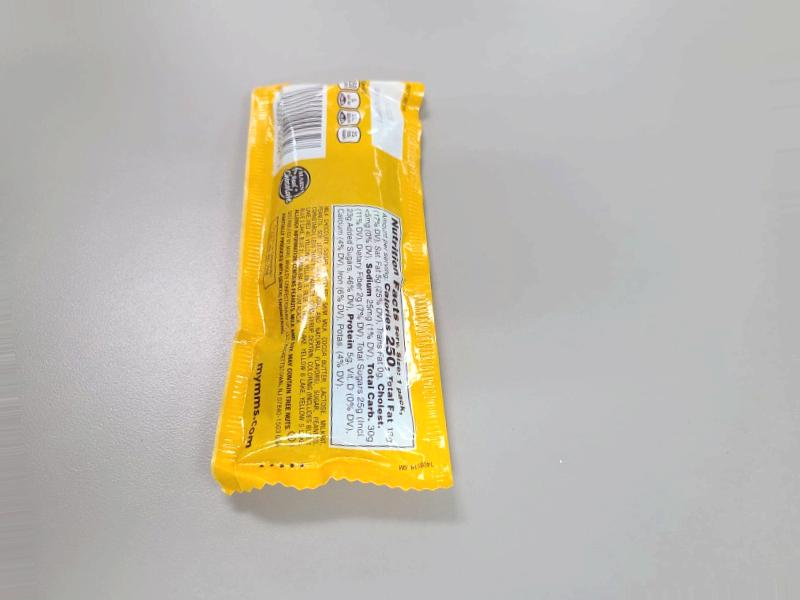m&m: (216, 117, 484, 476)
